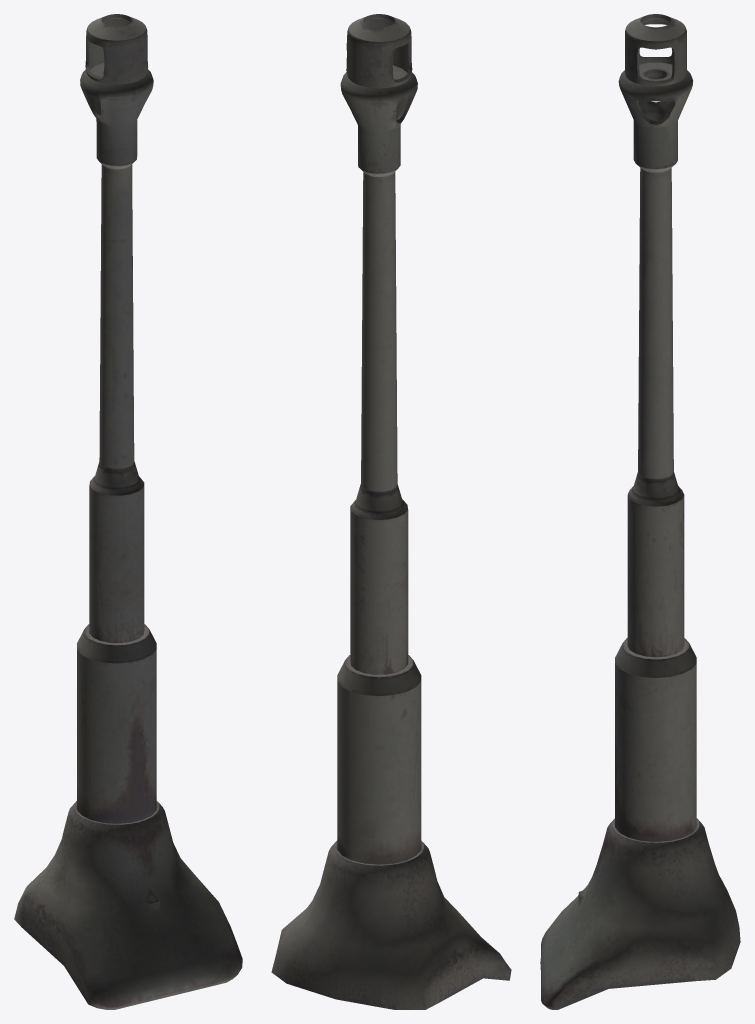
Rendered from Gun_04.glb.
3 renders of one model, left to right at view 1: azimuth 30°, elevation 25°; view 2: azimuth 150°, elevation 25°; view 3: azimuth 270°, elevation 25°, orthographic. The views are drawn at different scales.
Parts seen in each view (by area): view 1: set_0_group_0; view 2: set_0_group_0; view 3: set_0_group_0.
Part boxes in pixels (x1,y1,x2,y2): set_0_group_0: (14,14,242,1009); set_0_group_0: (271,14,511,1009); set_0_group_0: (540,14,740,1009).
Size of the model in its own units: 0.7237 by 4.23 by 0.8023.
Materials: 1 (1 with a texture image).
